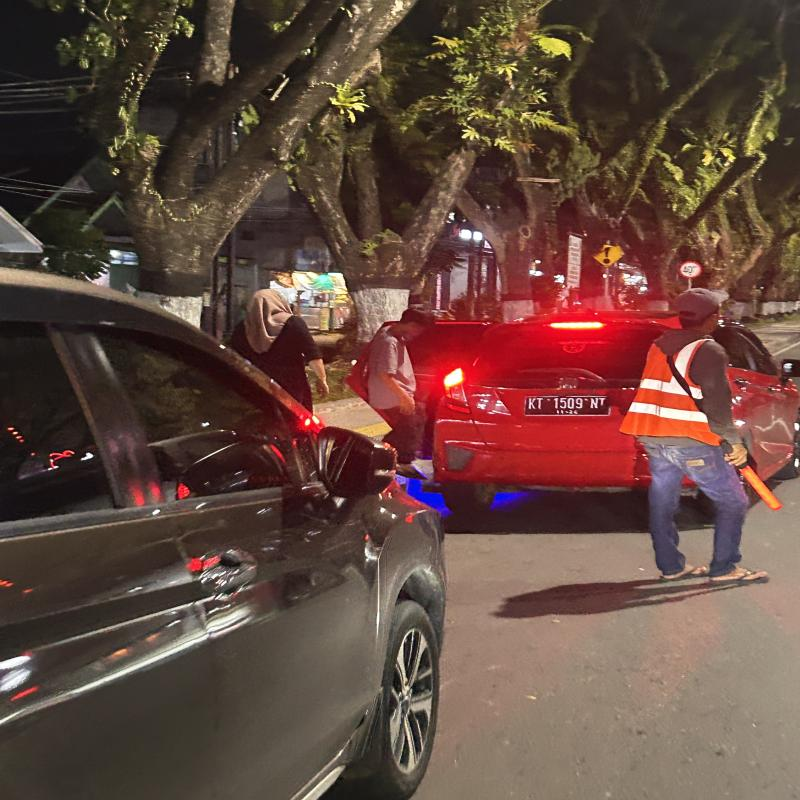license plate on a car: (526, 394, 611, 417)
